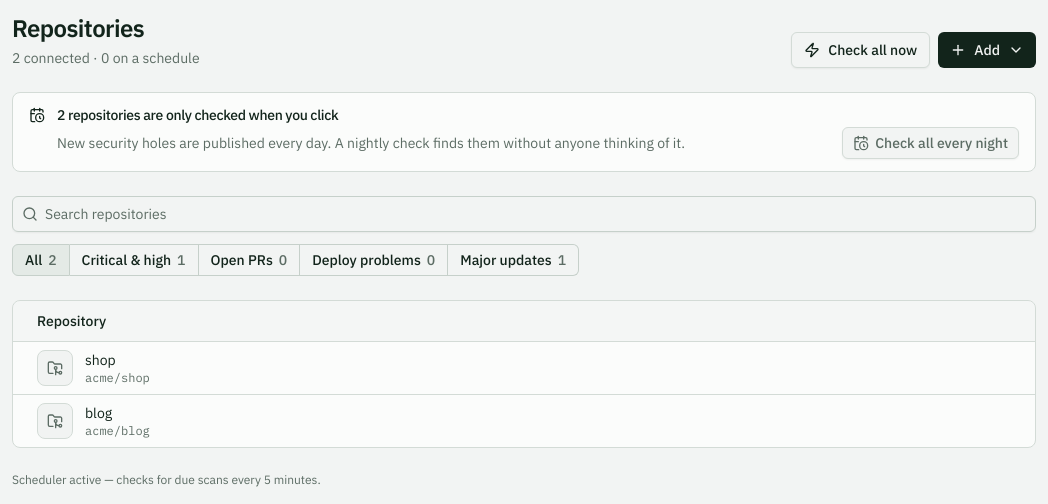
Test: ReposList › shows CVEs per repository, and searches and filters the list
In the field labelled "Search repositories": (524, 214) [12,196,1036,232], type "blog"
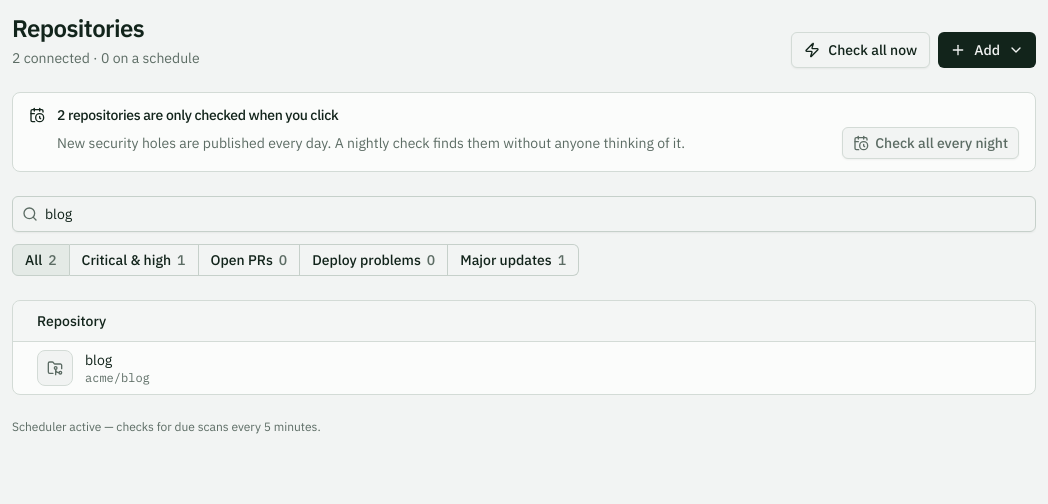
Expected: the link "blog" is shown, [85,350,112,368]
Expected: the link "shop" is gone
Clear the field named "Search repositories": (524, 214) [12,196,1036,232]
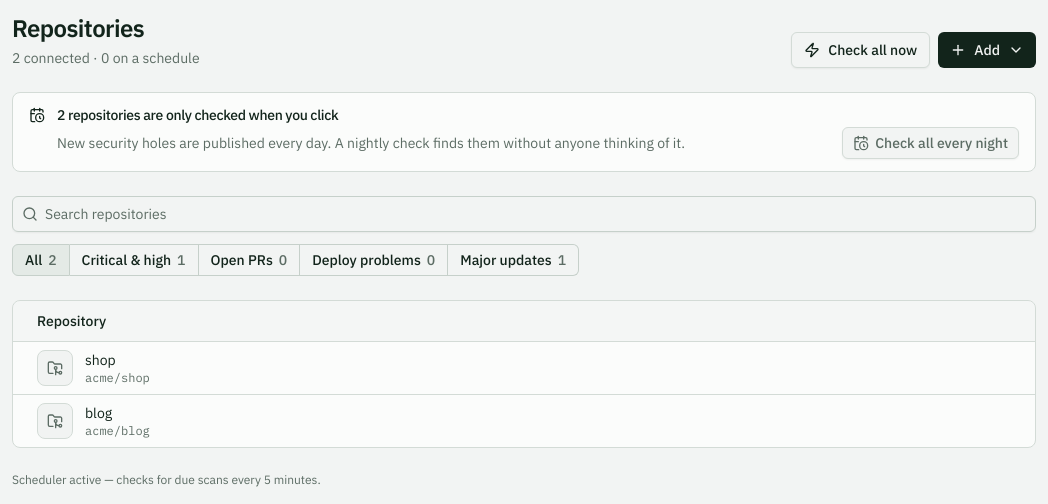
Click the radio button labelled "Critical & high 1": (134, 260) [70,244,198,276]
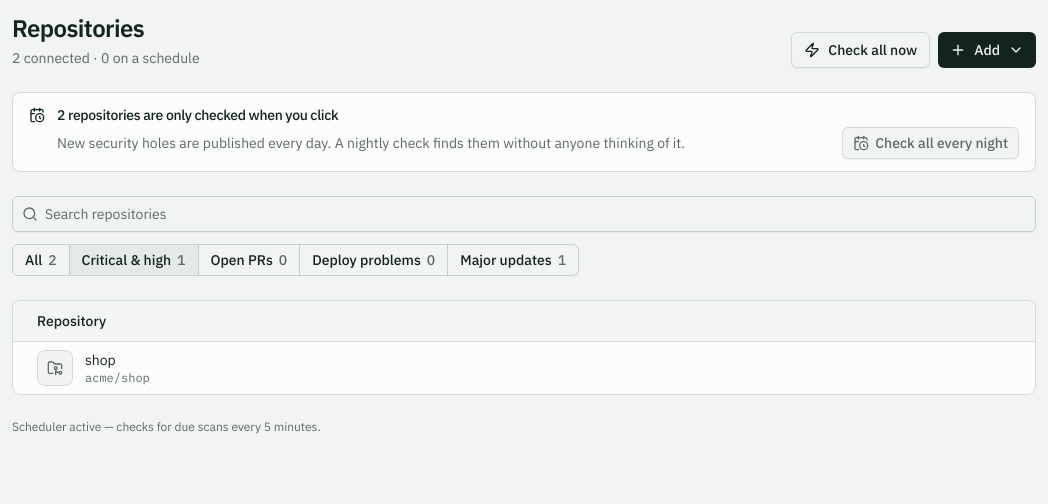
Expected: the link "shop" is shown, [85,350,116,368]
Expected: the link "blog" is gone
